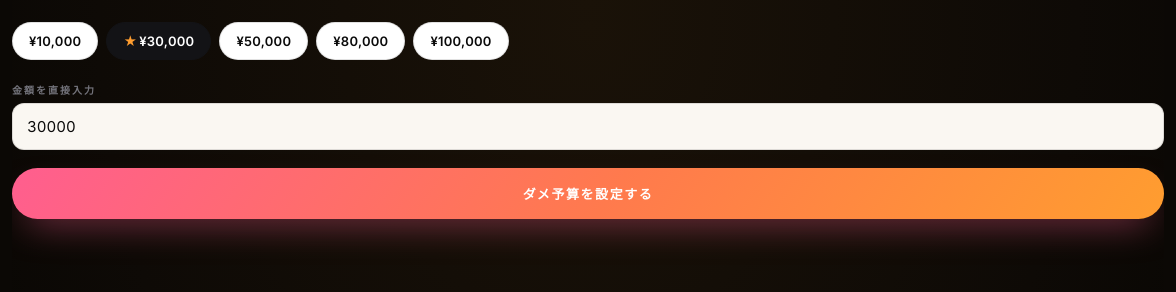
Scenario: BudgetForm (LC-BUDGET-12) › クイックボタンクリックで入力欄が更新される
Click the button with test id "budget-quick-50000": (264, 41) [219,22,308,60]
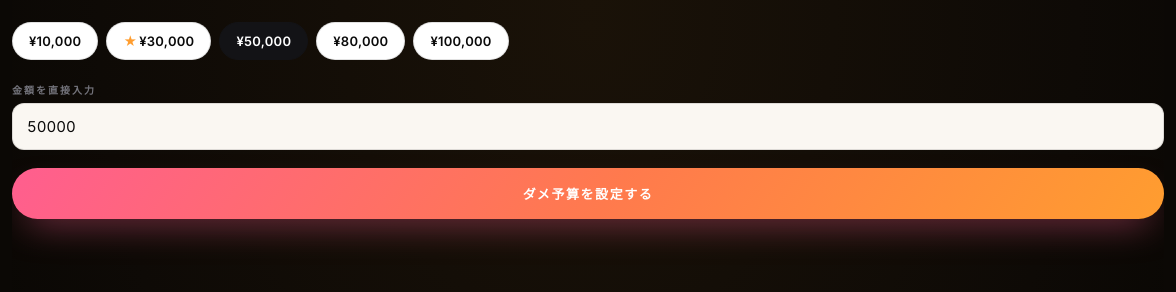
Now the number field with test id "budget-input" holds "50000", box [12,103,1164,150]
